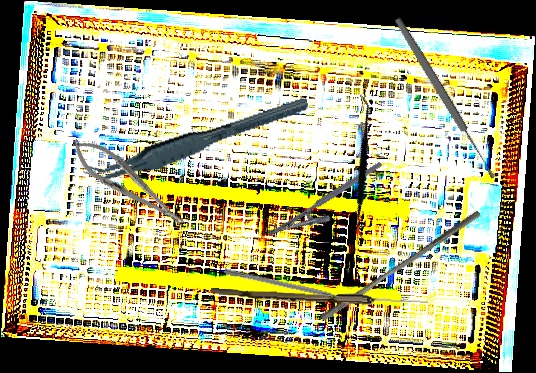Needle Holder: (62, 128, 194, 239), (266, 160, 393, 253)
Pusher: (319, 203, 482, 328), (223, 268, 356, 305)
Spatula Surgical: (298, 93, 425, 242)
Surgical Spoon: (392, 15, 498, 182), (210, 288, 429, 307)
Tissue Forceps: (77, 96, 315, 186)
